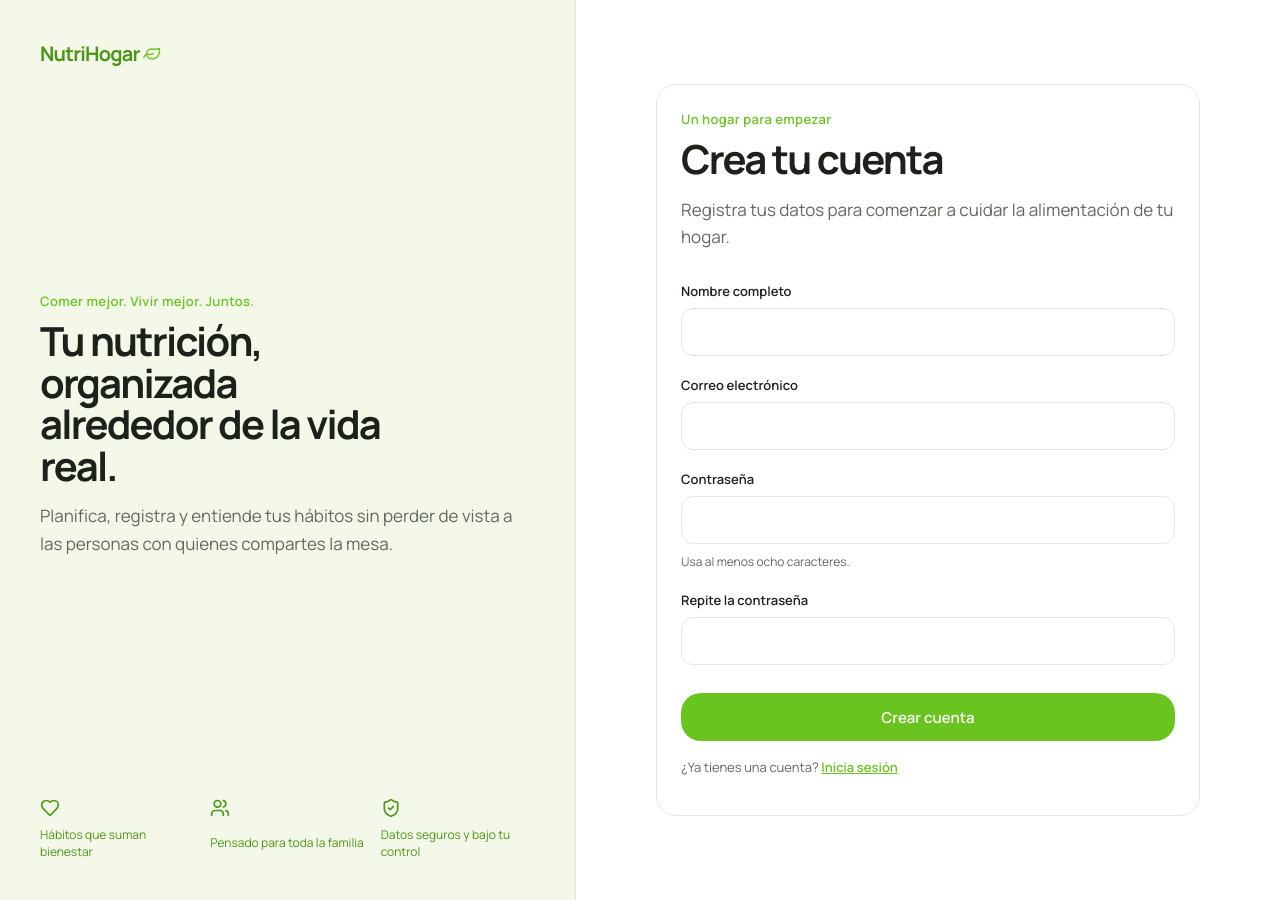
Scenario: RegisterPage › goes to onboarding when email confirmation is not required
The image size is (1280, 900).
In the field labelled "Nombre completo": (928, 332) [681,308,1175,356], type "Alejandro Sojo"
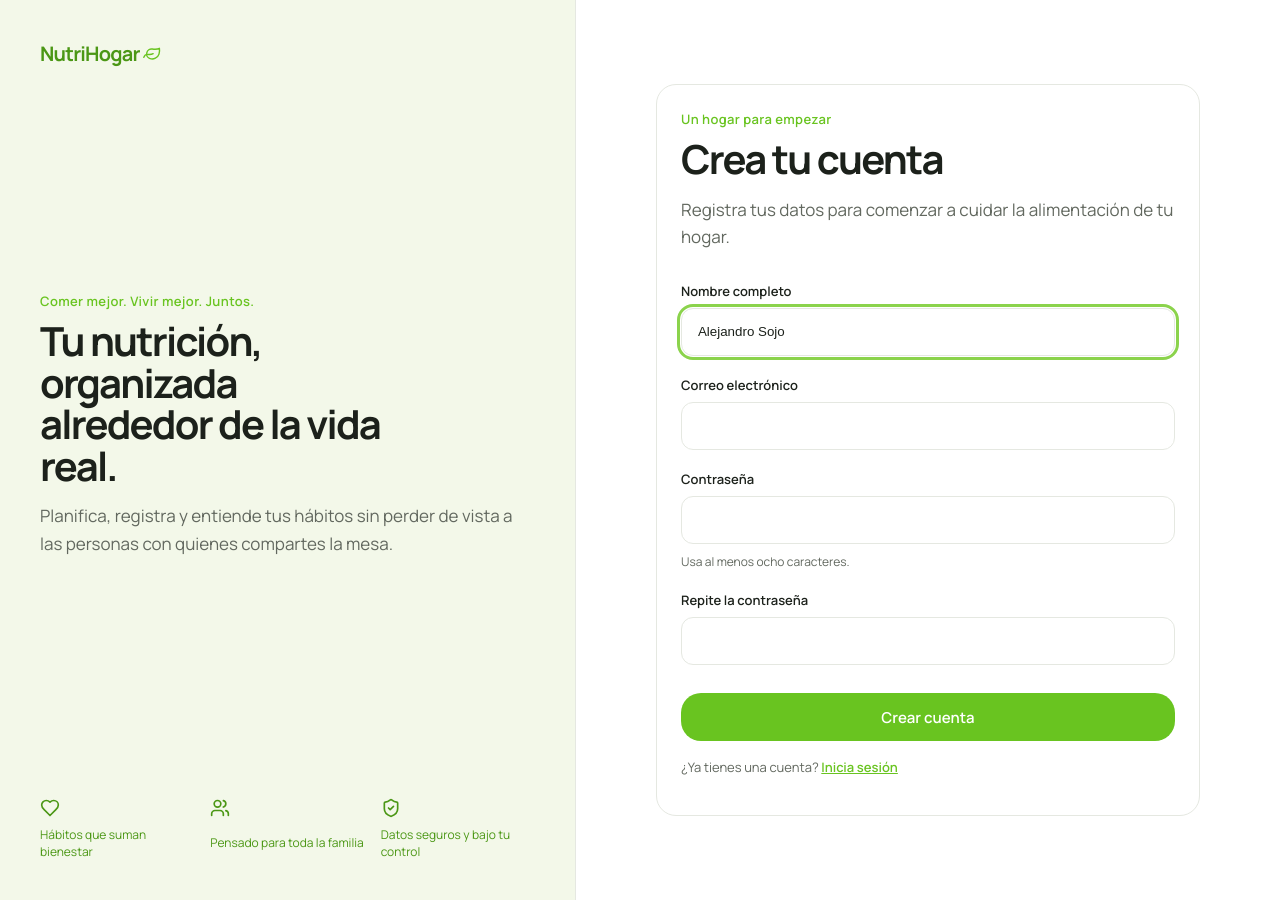
In the field labelled "Correo electrónico": (928, 426) [681,402,1175,450], type "adult@example.com"
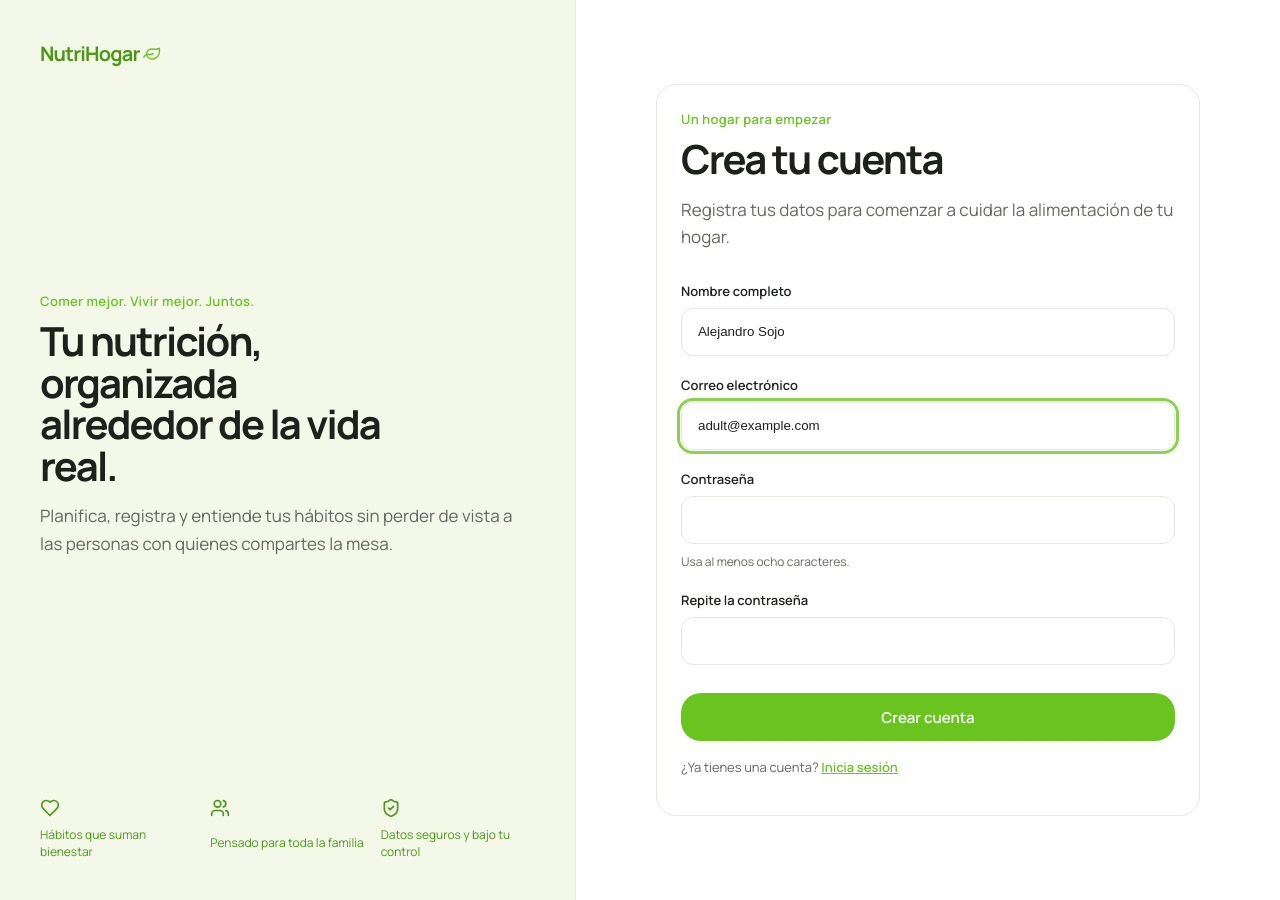
In the password field labelled "Contraseña": (928, 520) [681,496,1175,544], type "secret-password"
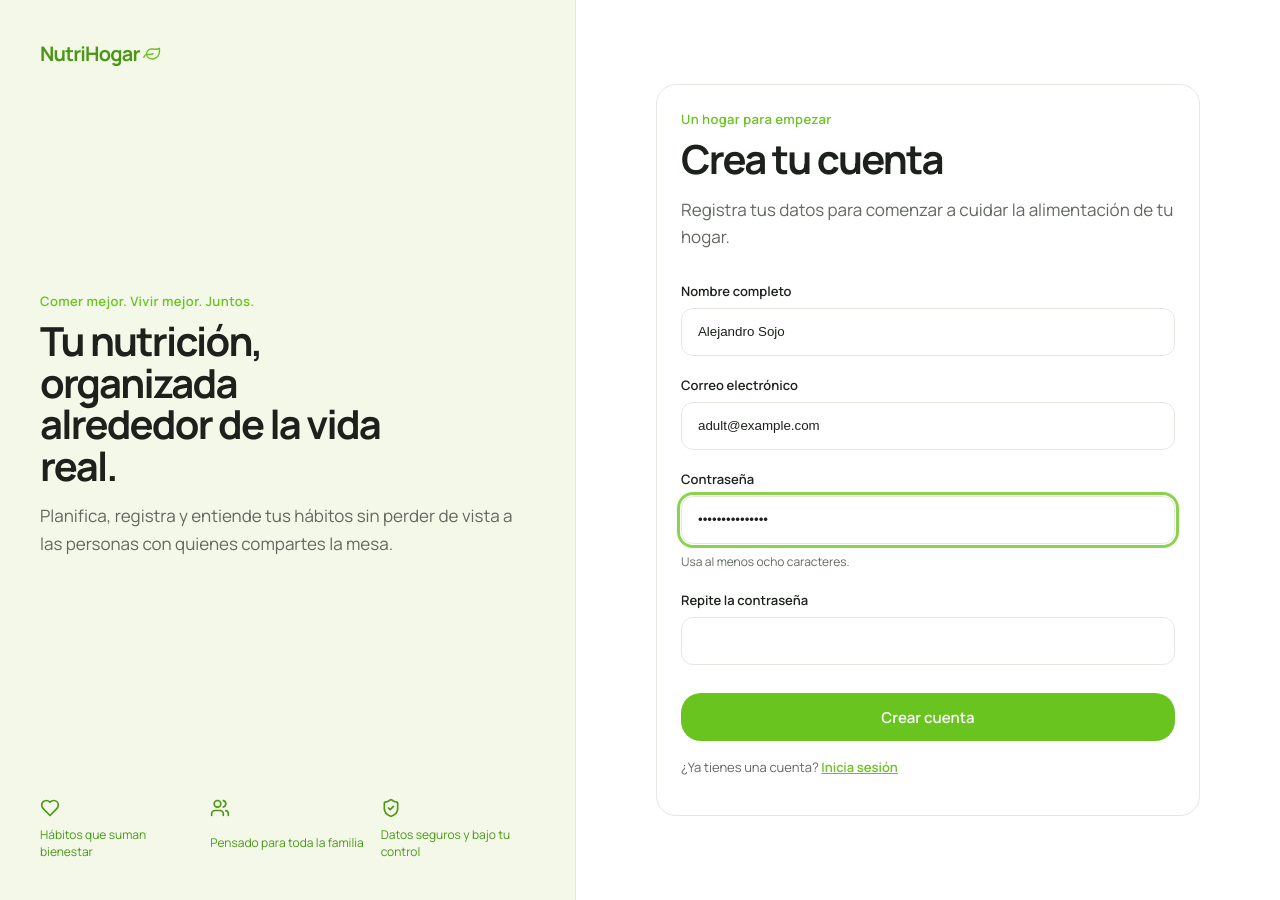
In the password field labelled "Repite la contraseña": (928, 641) [681,617,1175,665], type "secret-password"
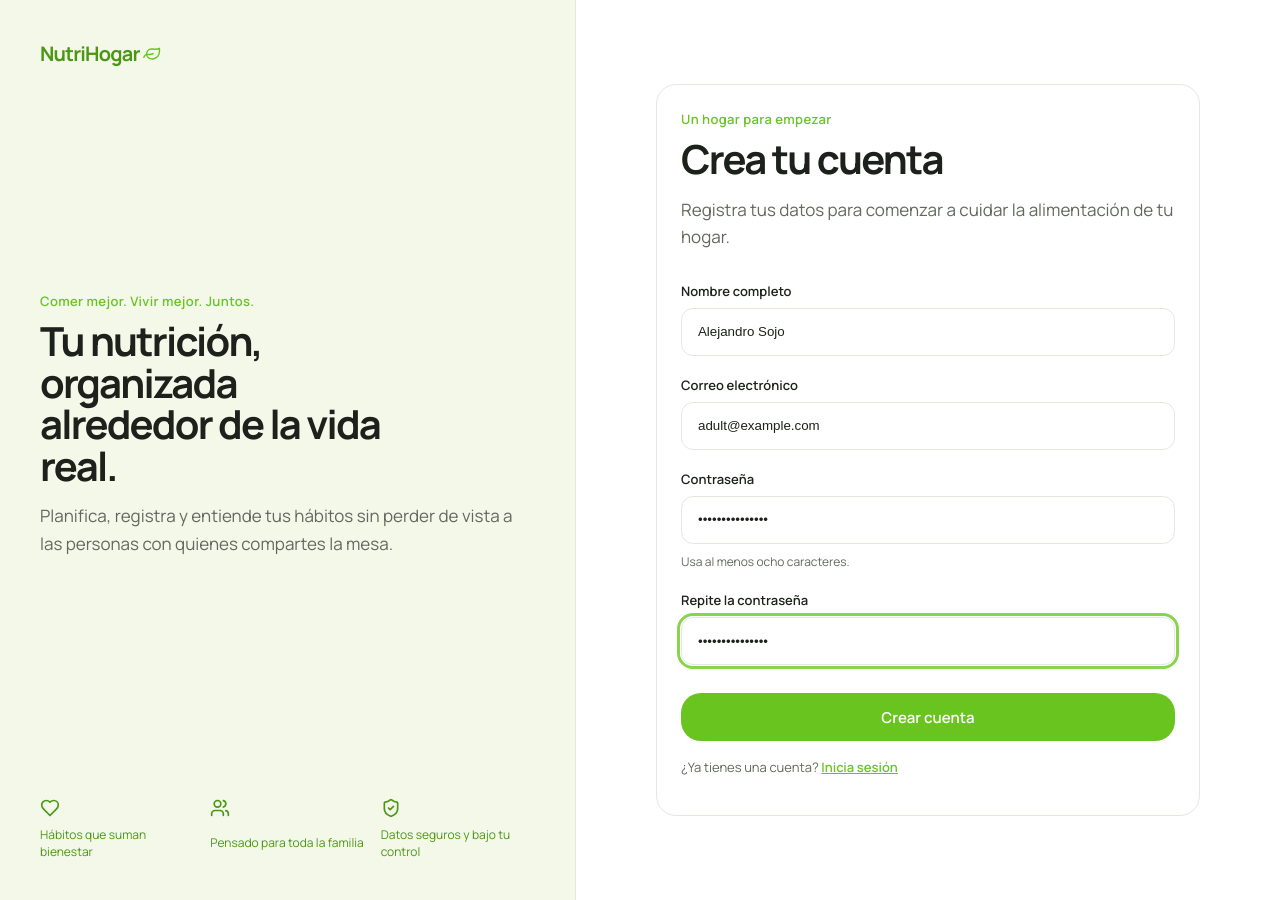
Click the button "Crear cuenta": (928, 717) [681,693,1175,741]
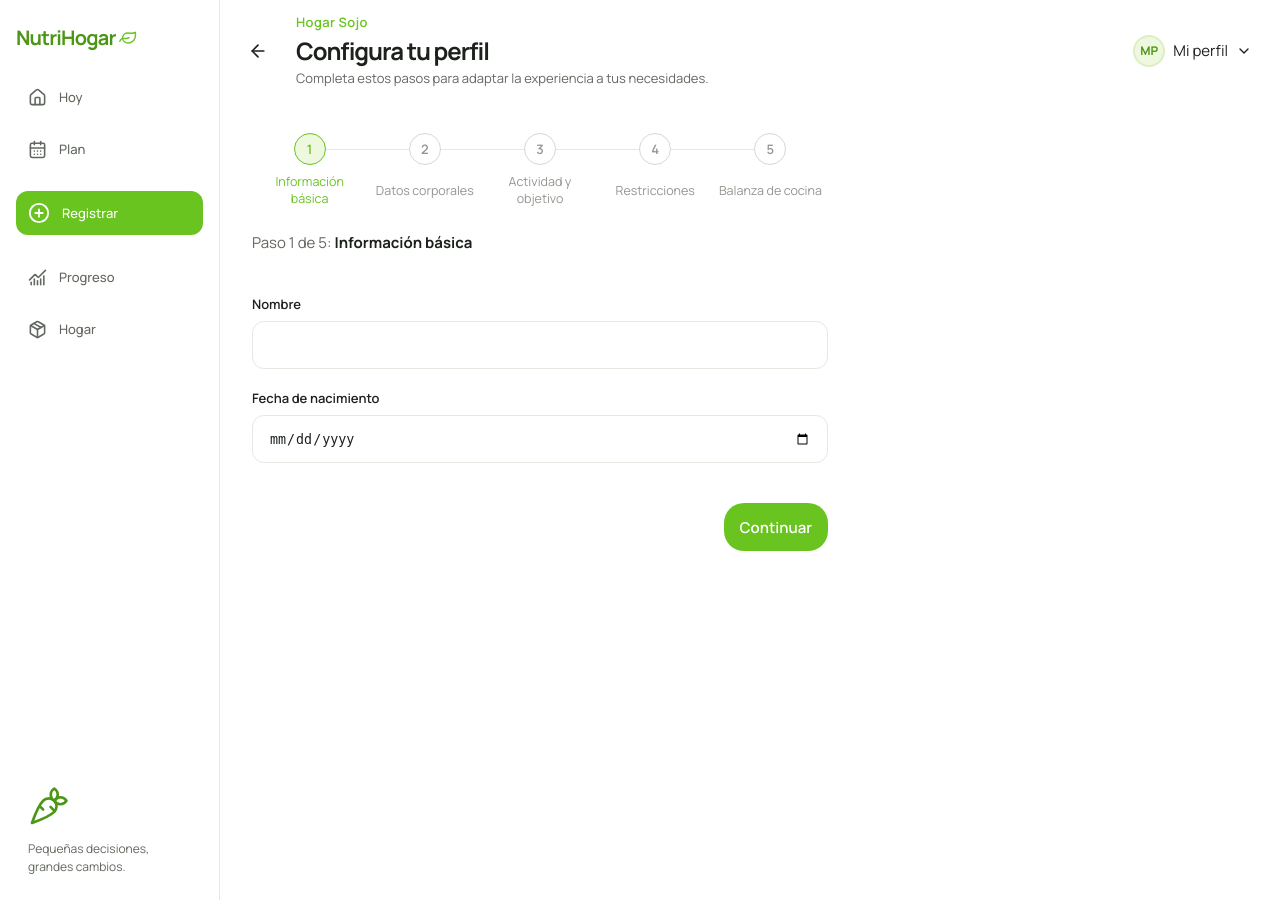
expect the heading "Configura tu perfil" is shown: met, box [296,34,489,67]
